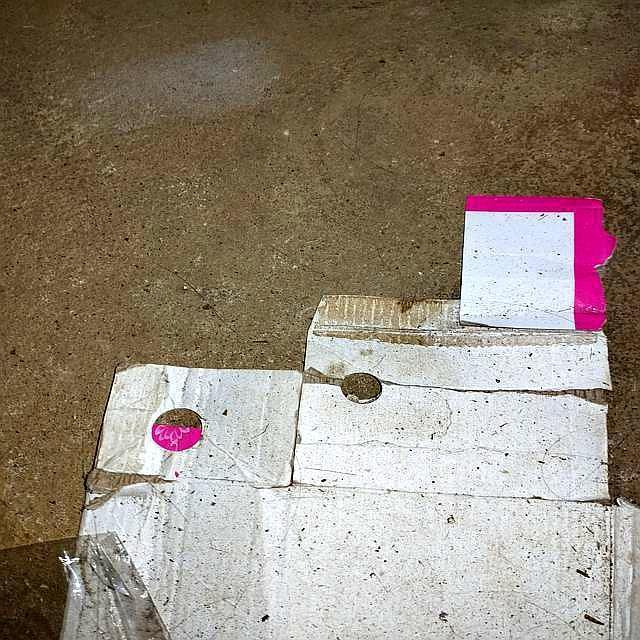Biodegradable: (59, 189, 640, 640)
